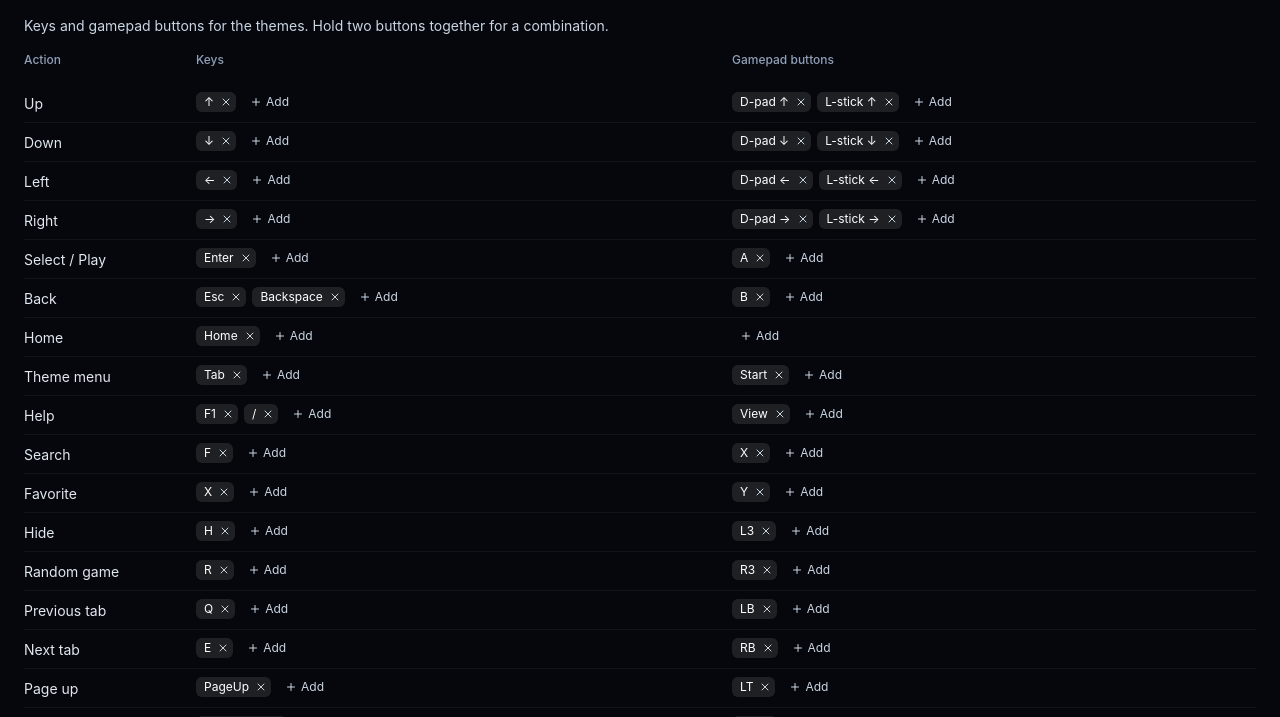
InputSection › FR-THM-3: a duplicate key shows the field error and disables Save
Click the button with aria-label "Add key for Hide" at (268, 531), box [241,521,296,541]
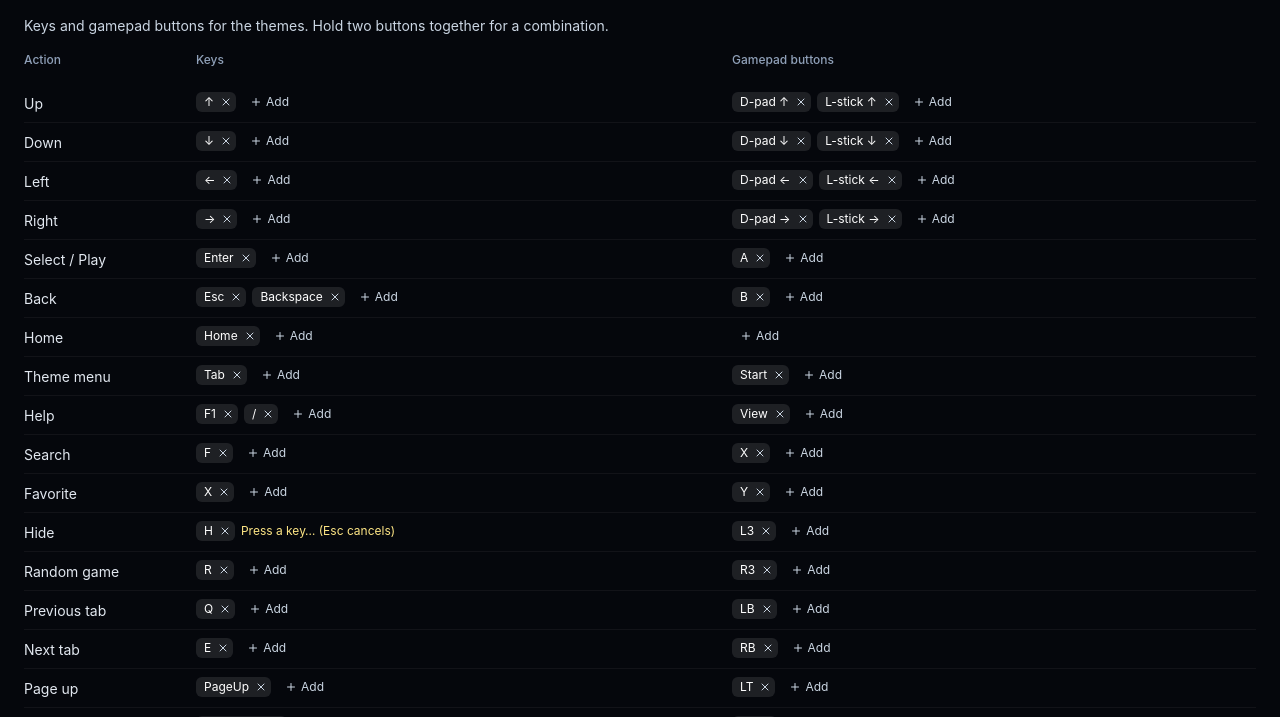
Press x
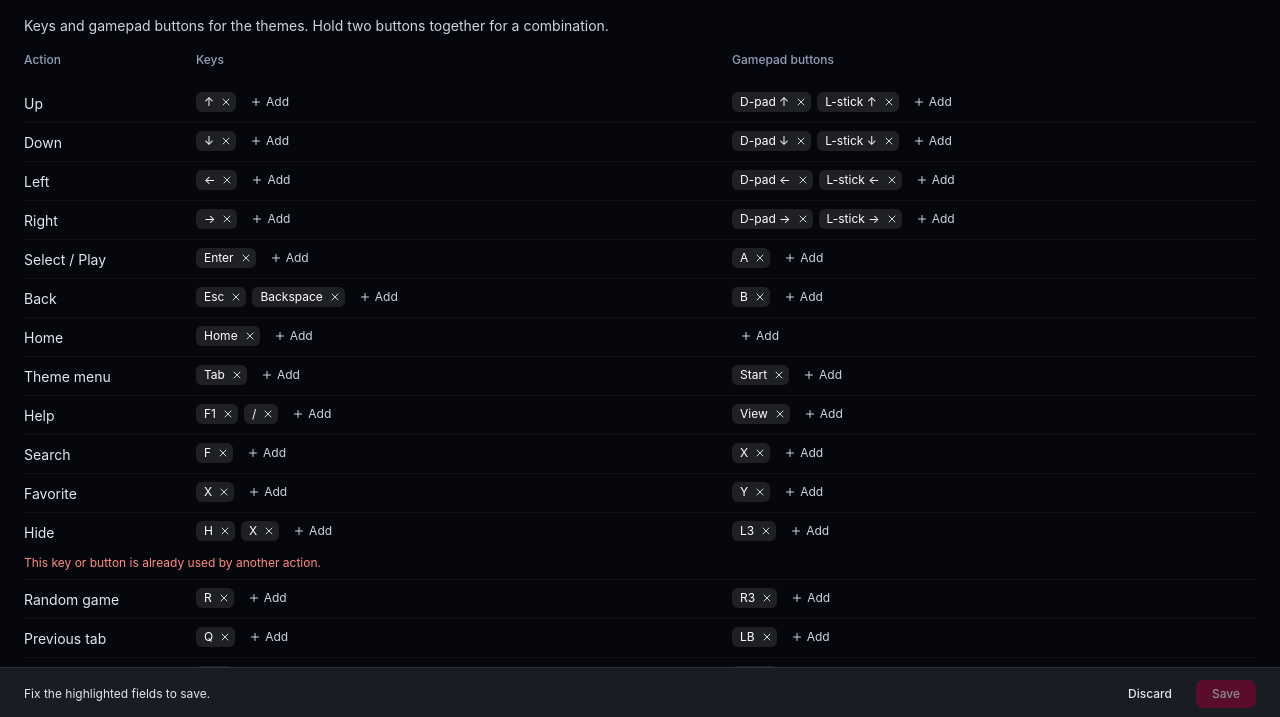
Result: the text "This key or button is already used by another action." is shown at [24,555,321,570]
Result: the button "Save" is disabled at [1196,680,1256,708]
